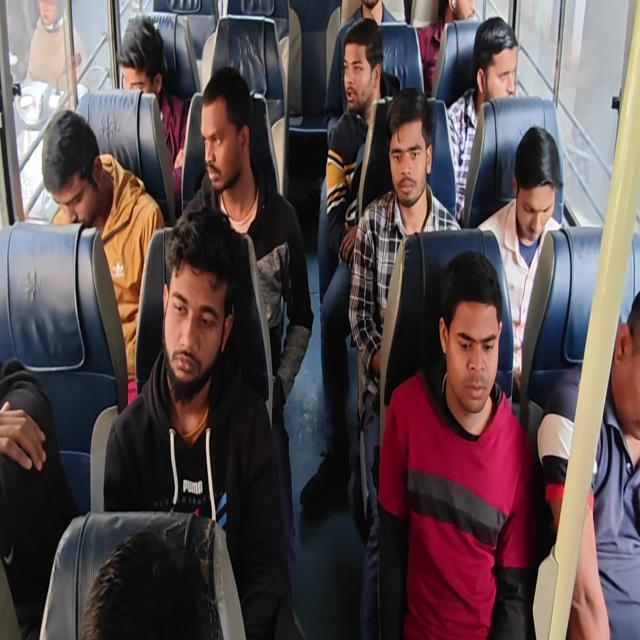person: (434, 243, 524, 442), (157, 204, 241, 402), (71, 529, 216, 640), (503, 126, 583, 267), (378, 82, 441, 216), (39, 107, 106, 224), (196, 61, 252, 196), (333, 21, 390, 125), (610, 276, 640, 447), (117, 12, 168, 112), (474, 17, 526, 103), (443, 0, 490, 32), (352, 0, 401, 30)
